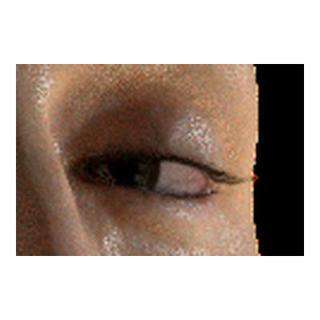pupil: (100, 147, 138, 186)
